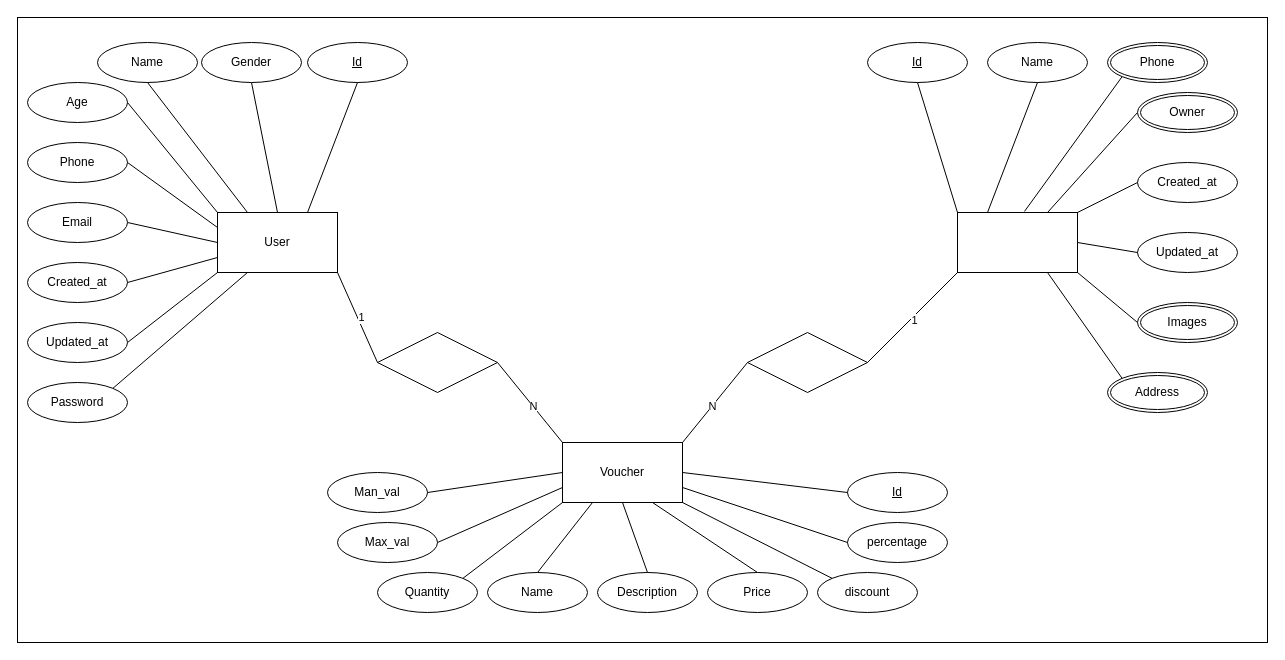
The diagram is 1285 pixels wide and 660 high, and some of its shapes have lost their labels. The centre of each missing label's shape, as x and y in pixels:
"Create" belongs at point (807, 362).
"Has" belongs at point (437, 362).
"Store" belongs at point (1017, 242).
